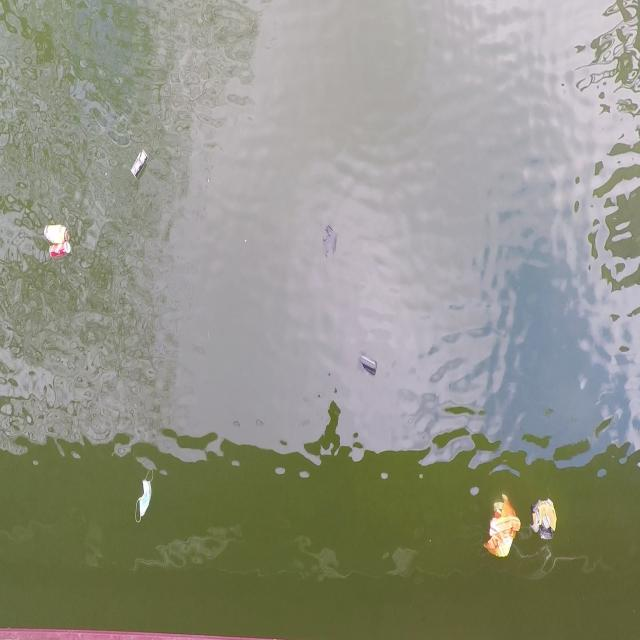Non plastique: (130, 462, 158, 534), (130, 144, 153, 184), (42, 217, 72, 244), (45, 244, 74, 265)
Sac plastique: (484, 491, 524, 567), (529, 495, 562, 549)
